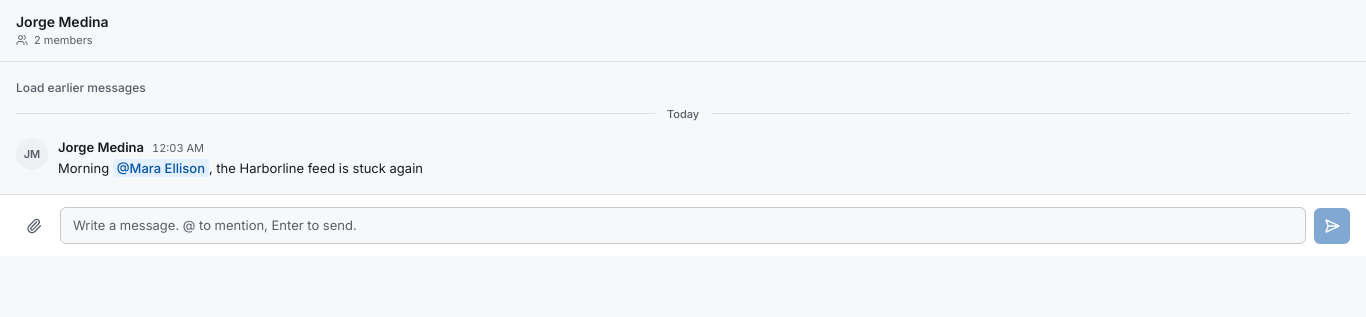
Scenario: MessagePanel › loads earlier pages with the before cursor
Click the button "Load earlier messages" at (81,88), box [16,78,146,96]
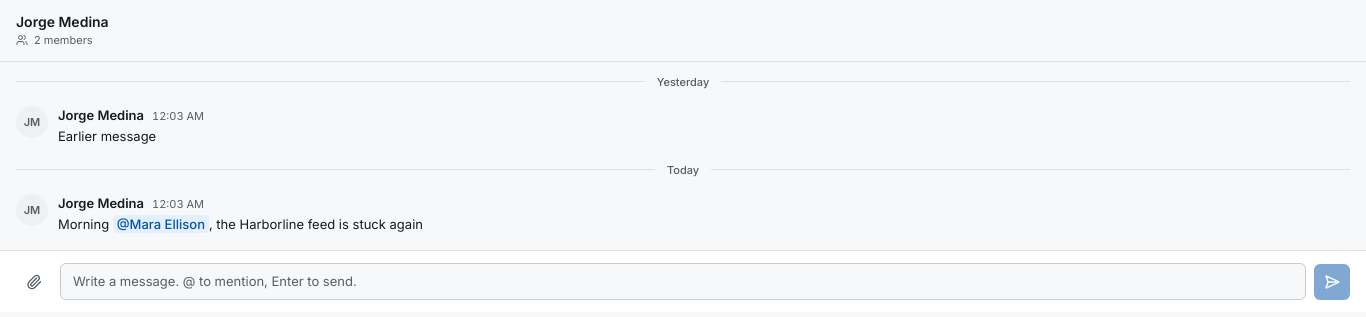
Expected: the text "Earlier message" is shown, [58,128,156,144]
Expected: the text "Yesterday" is shown, [657,74,709,90]
